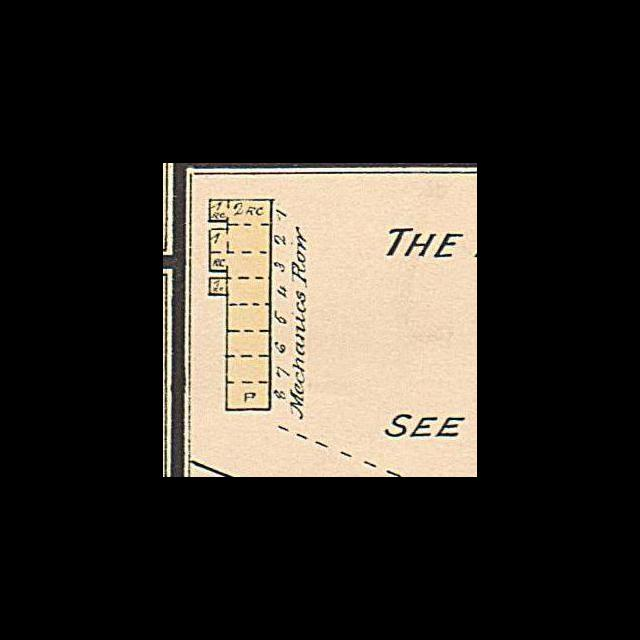building-footprints: (209, 200, 271, 410), (209, 278, 227, 295)
